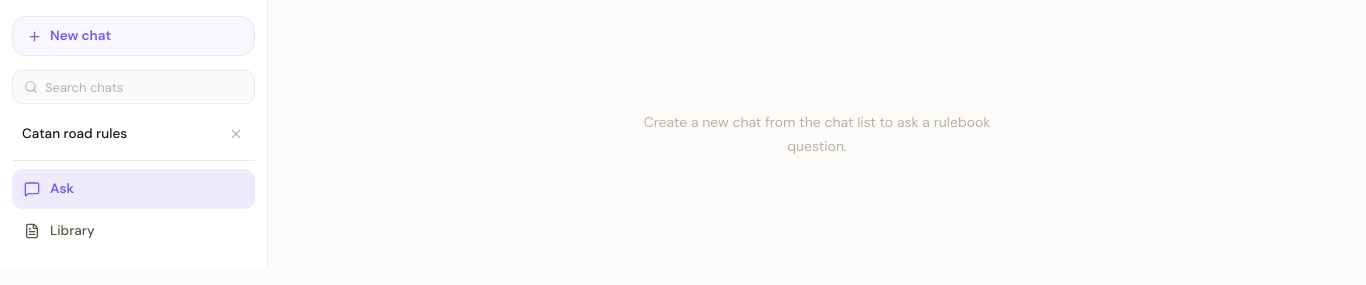
ChatPage › keeps a chat visible and shows an error when deletion fails
Click the button named "Delete Catan road rules".
click(236, 134)  # box [223, 121, 249, 147]
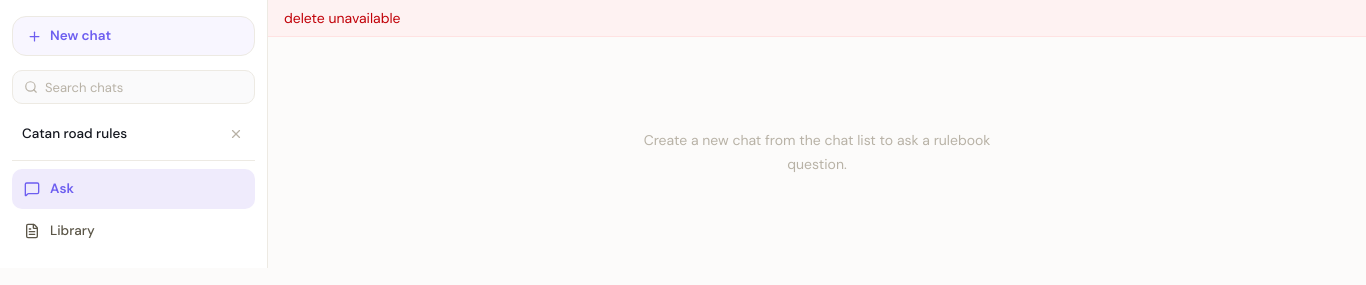
Expected: the text "Catan road rules" is shown, [22, 125, 127, 142]
Now the message reads "delete unavailable", box [284, 9, 400, 27]
